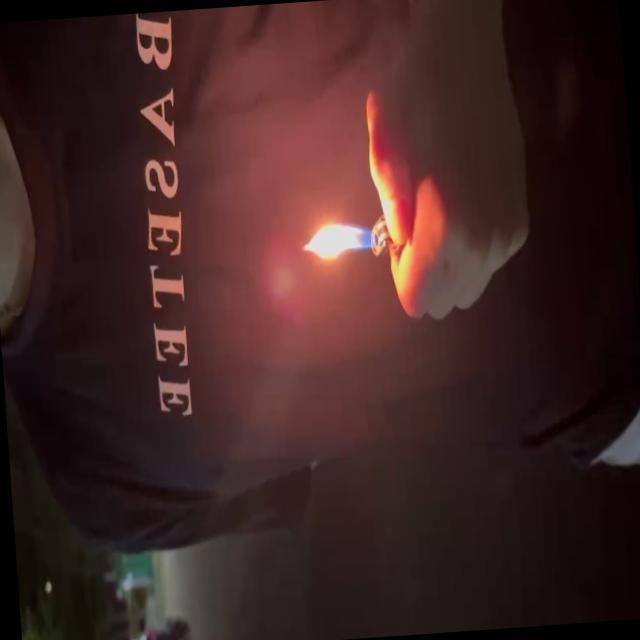Fire: (299, 216, 380, 275)
